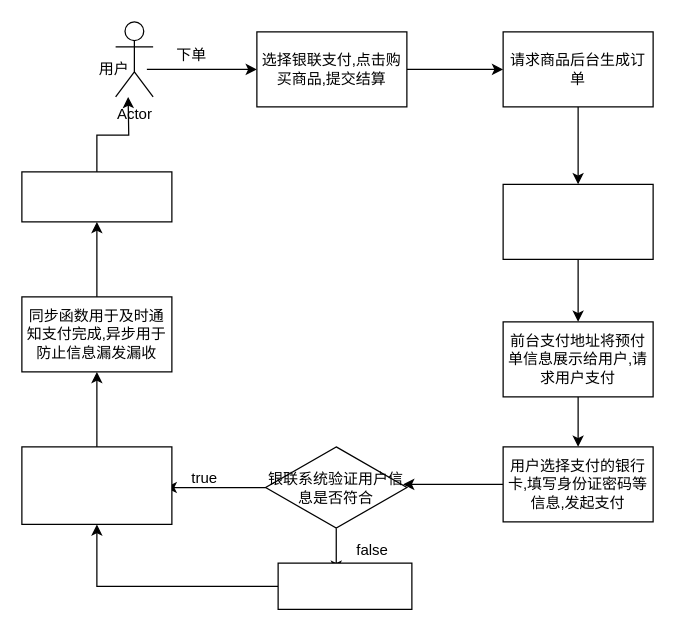
The diagram is 675 pixels wide and 631 high, and some of its shapes have lost their labels. The centre of each missing label's shape, as x and y in pixels:
发起同步回调函数和异步回调函数: the point at 96,485
将支付结果返回给用户: the point at 96,196
请求用户重新输入: the point at 344,585
调用银联网关支付接口,生成预付单,获取银联前台支付地址: the point at 577,221
